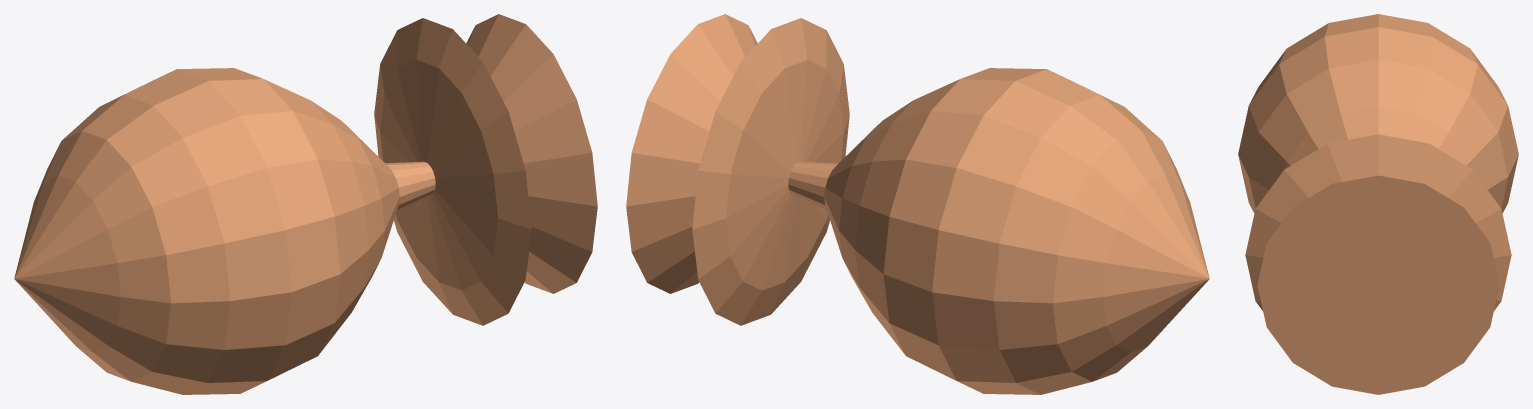
File: bomb02.fbx
The picture shows the model from 3 angles, left to right: view 1: azimuth 30°, elevation 25°; view 2: azimuth 150°, elevation 25°; view 3: azimuth 270°, elevation 25°; orthographic projection. The views are drawn at different scales.
Parts seen in each view (by area): view 1: Sphere; view 2: Sphere; view 3: Sphere.
Part boxes in pixels (left/top/right/bottom): Sphere: left=14, top=14, right=597, bottom=394; Sphere: left=626, top=14, right=1209, bottom=394; Sphere: left=1238, top=14, right=1518, bottom=394.
Size of the model in its own units: 267 by 150 by 150.
